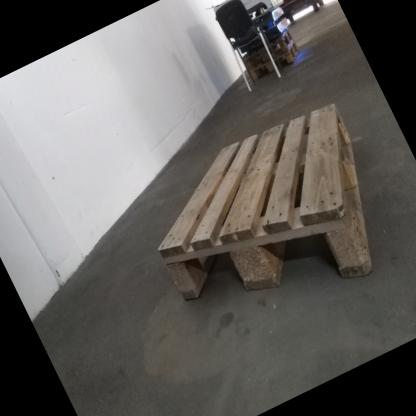BoxFace: (155, 95, 379, 305)
